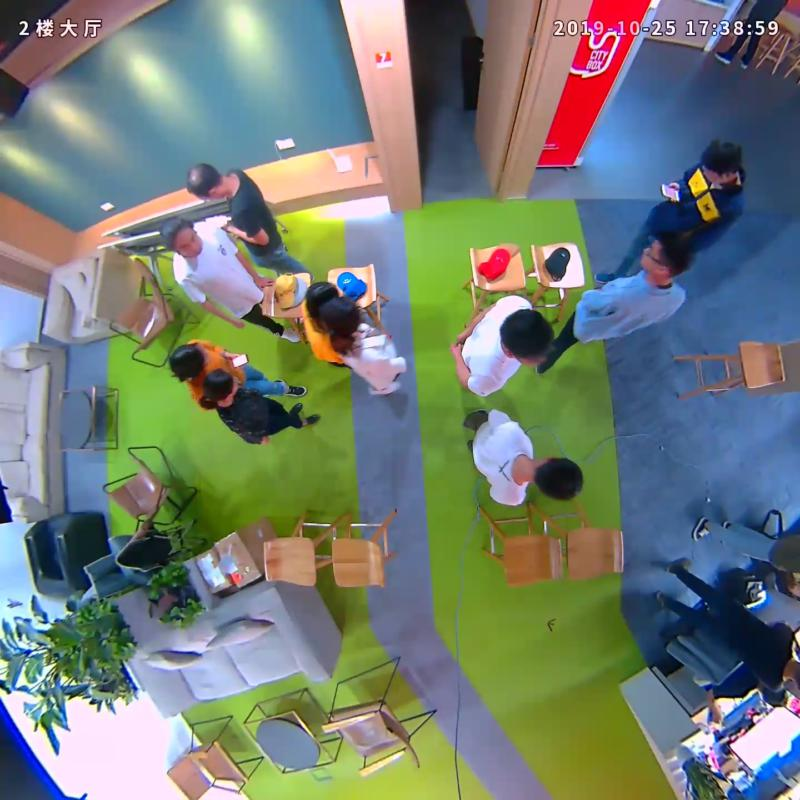head: (499, 308, 556, 369), (637, 230, 692, 277), (530, 456, 583, 501), (700, 141, 743, 185), (158, 216, 203, 256), (319, 296, 359, 340), (185, 162, 226, 201), (169, 343, 208, 377), (201, 368, 239, 401)
